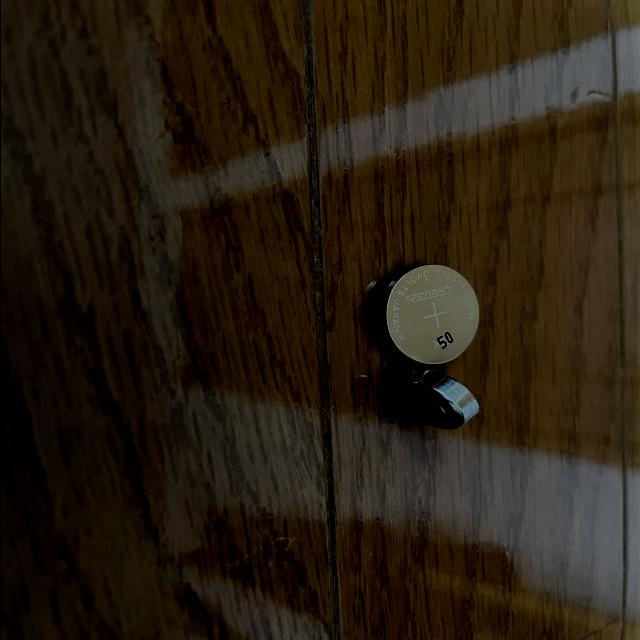COIN: (375, 264, 479, 366), (397, 368, 482, 432)
